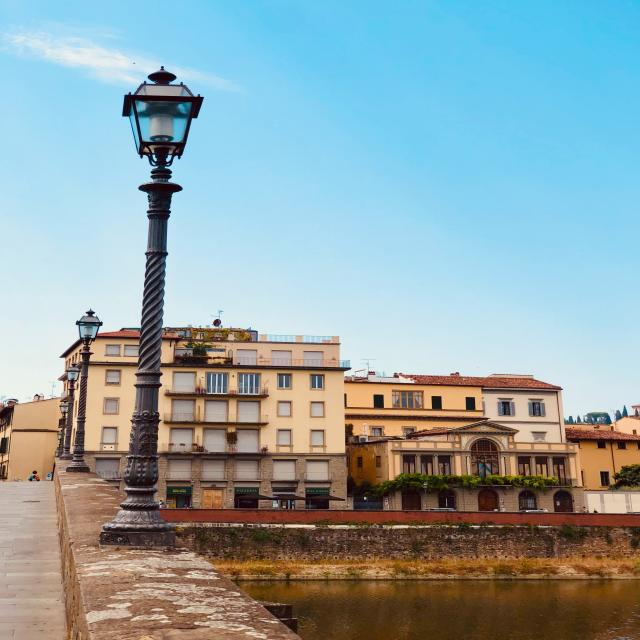Street Light: (107, 66, 204, 542), (66, 310, 102, 472), (60, 363, 81, 459), (58, 401, 68, 456)
